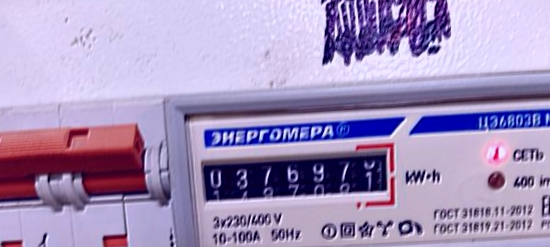0: (206, 168, 223, 190)
1: (363, 171, 375, 193)
3: (233, 168, 249, 192)
6: (285, 163, 299, 185)
7: (259, 164, 273, 189), (336, 160, 350, 184)
9: (310, 162, 324, 185)
screen: (193, 142, 400, 224)
